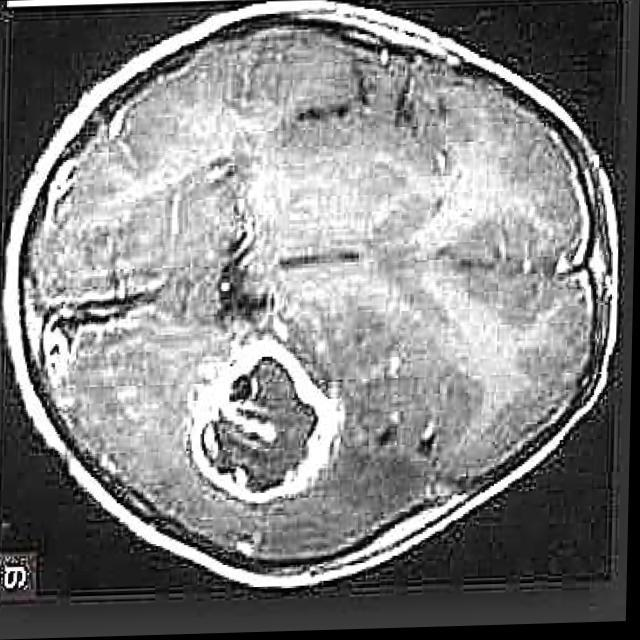Tumor: (192, 343, 343, 506)
